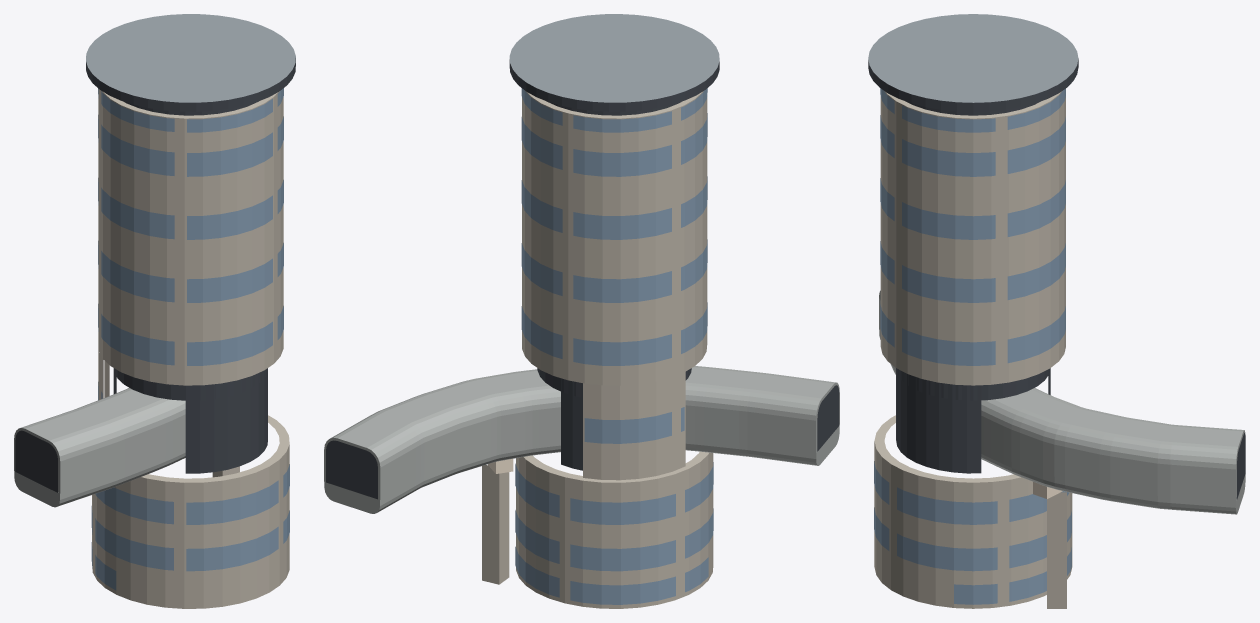
File: osaka-gate-tower-building.detail.glb
The picture shows the model from 3 angles, left to right: view 1: azimuth 30°, elevation 25°; view 2: azimuth 150°, elevation 25°; view 3: azimuth 270°, elevation 25°; orthographic projection.
Visible parts, largest first — view 1: Gate Tower Building; view 2: Gate Tower Building; view 3: Gate Tower Building.
Part boxes in pixels (box(x1,y1,x2,y2)): Gate Tower Building: box(14, 14, 295, 608); Gate Tower Building: box(324, 14, 839, 608); Gate Tower Building: box(868, 14, 1245, 608).
Bounding box in the file's own units: 51.99 × 72.6 × 48.84.
